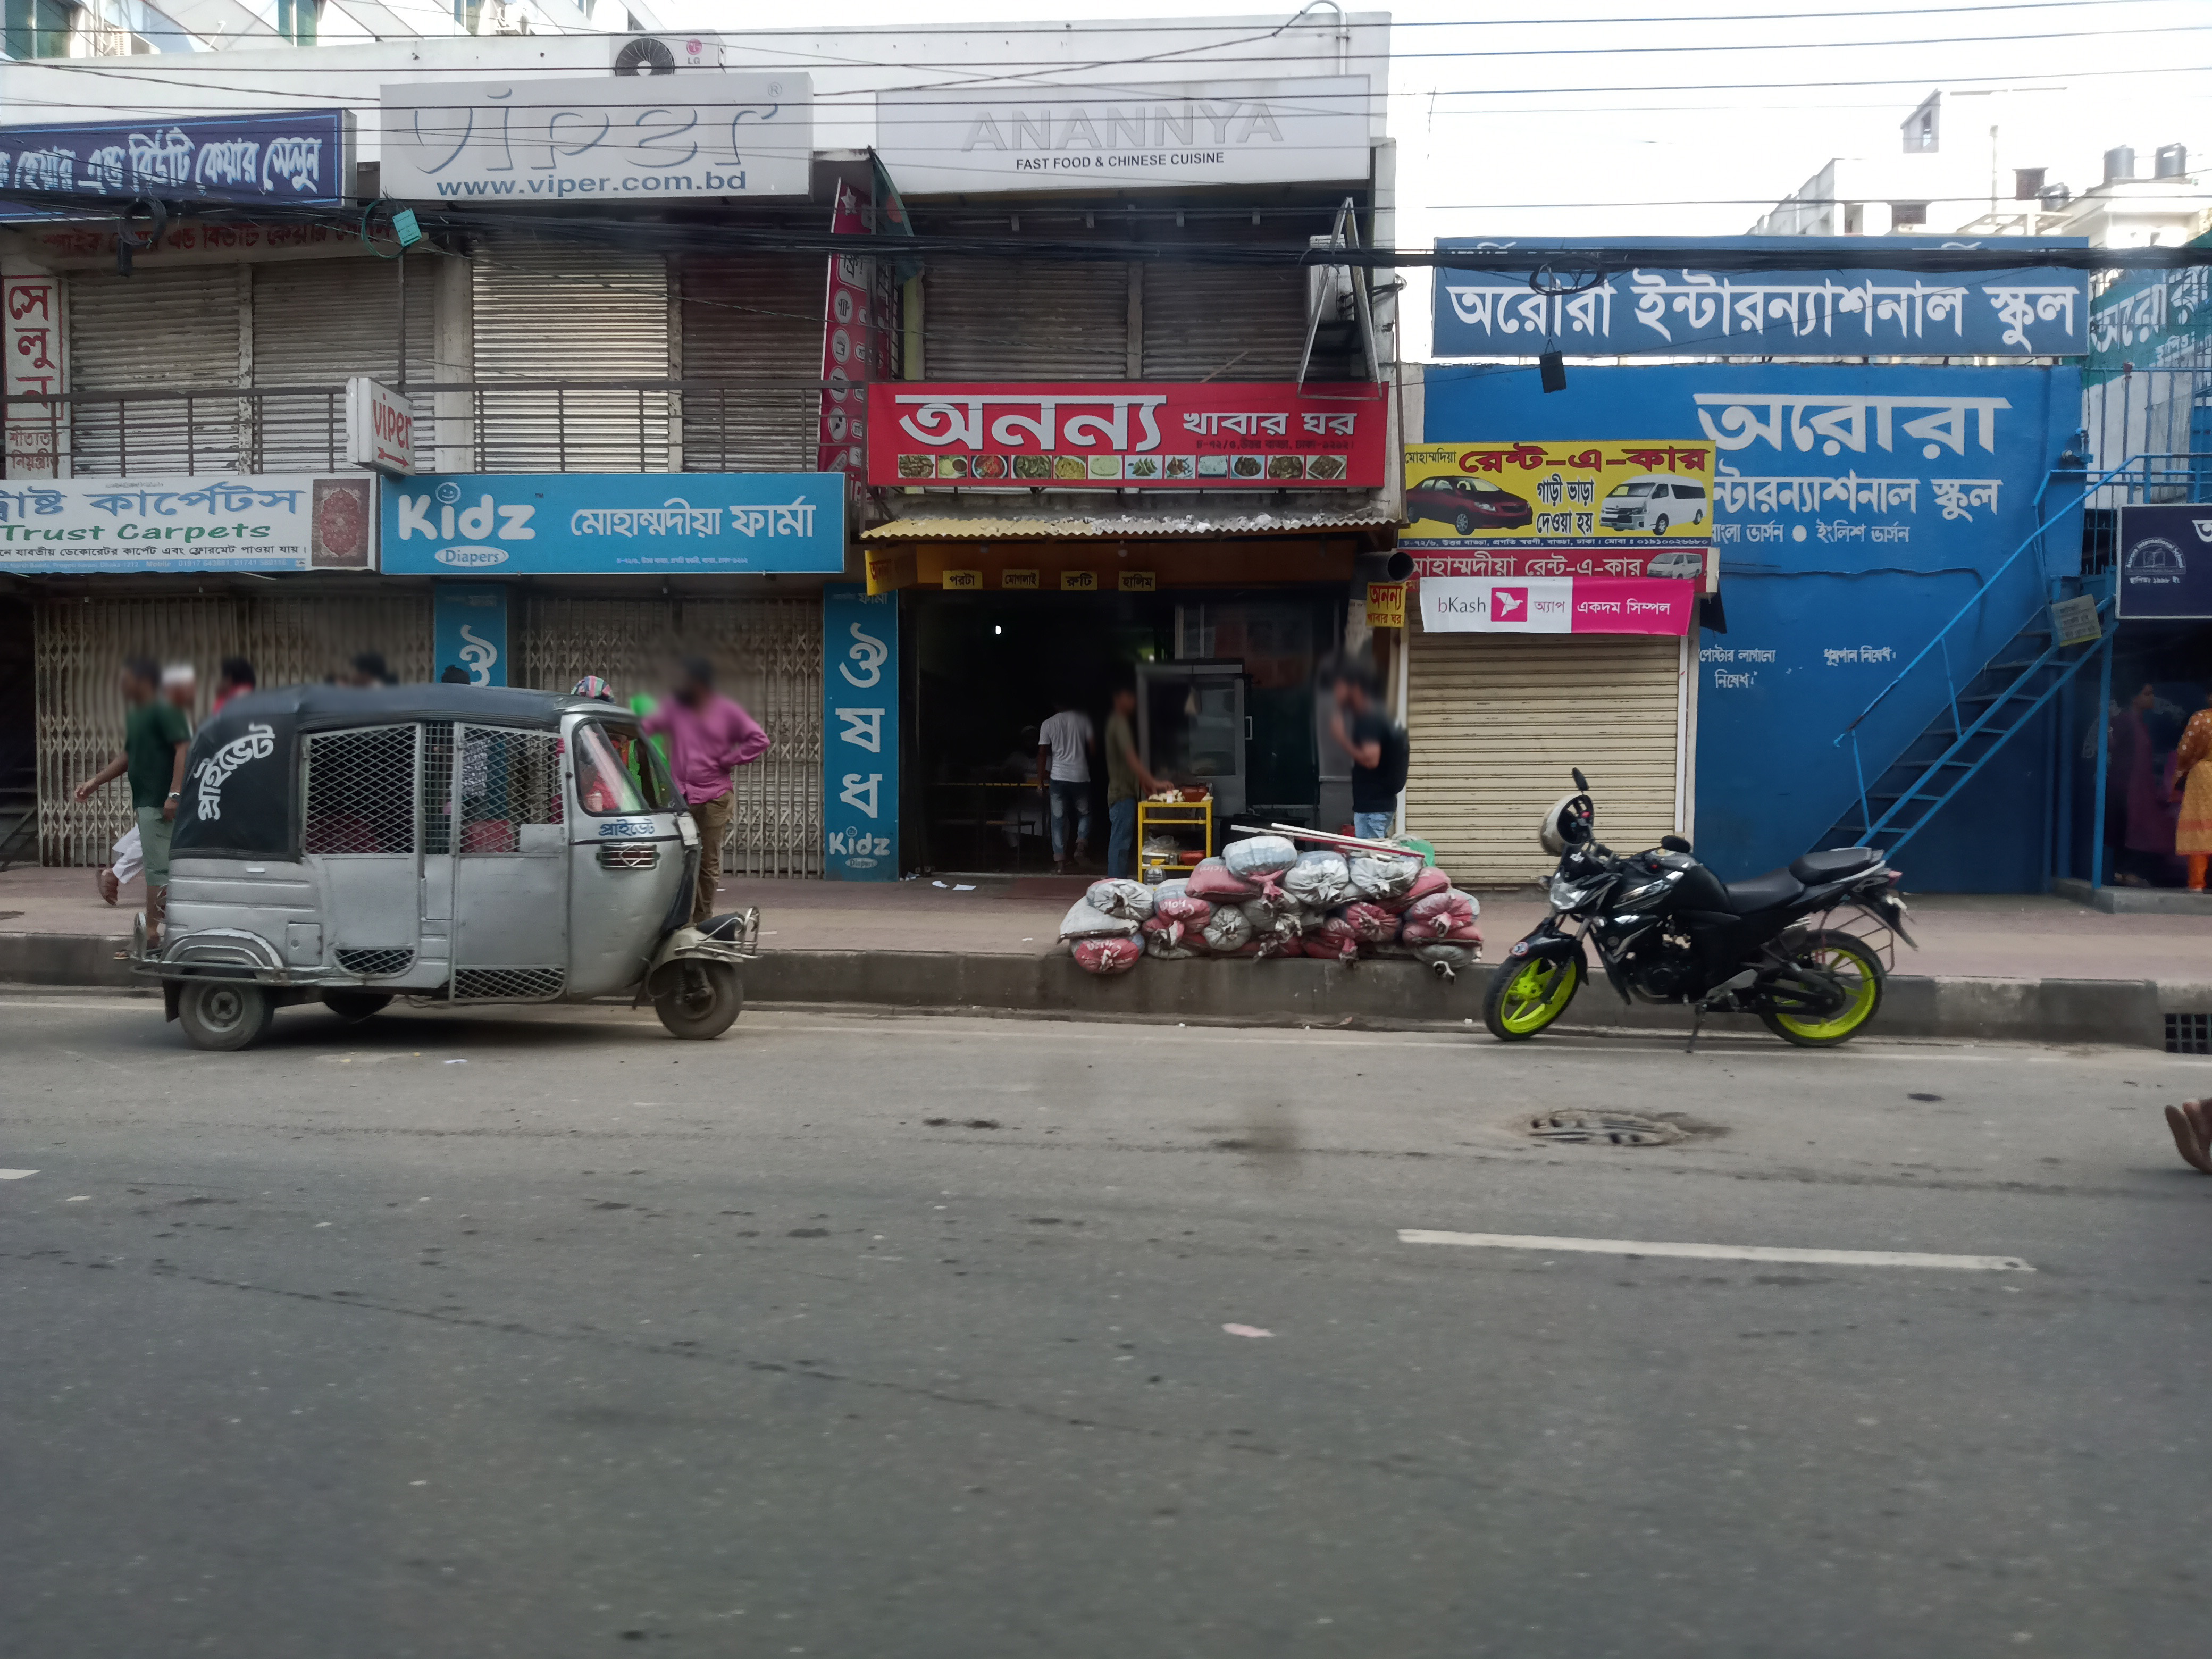bike: (1486, 772, 1912, 1047)
cng: (125, 688, 756, 1039)
